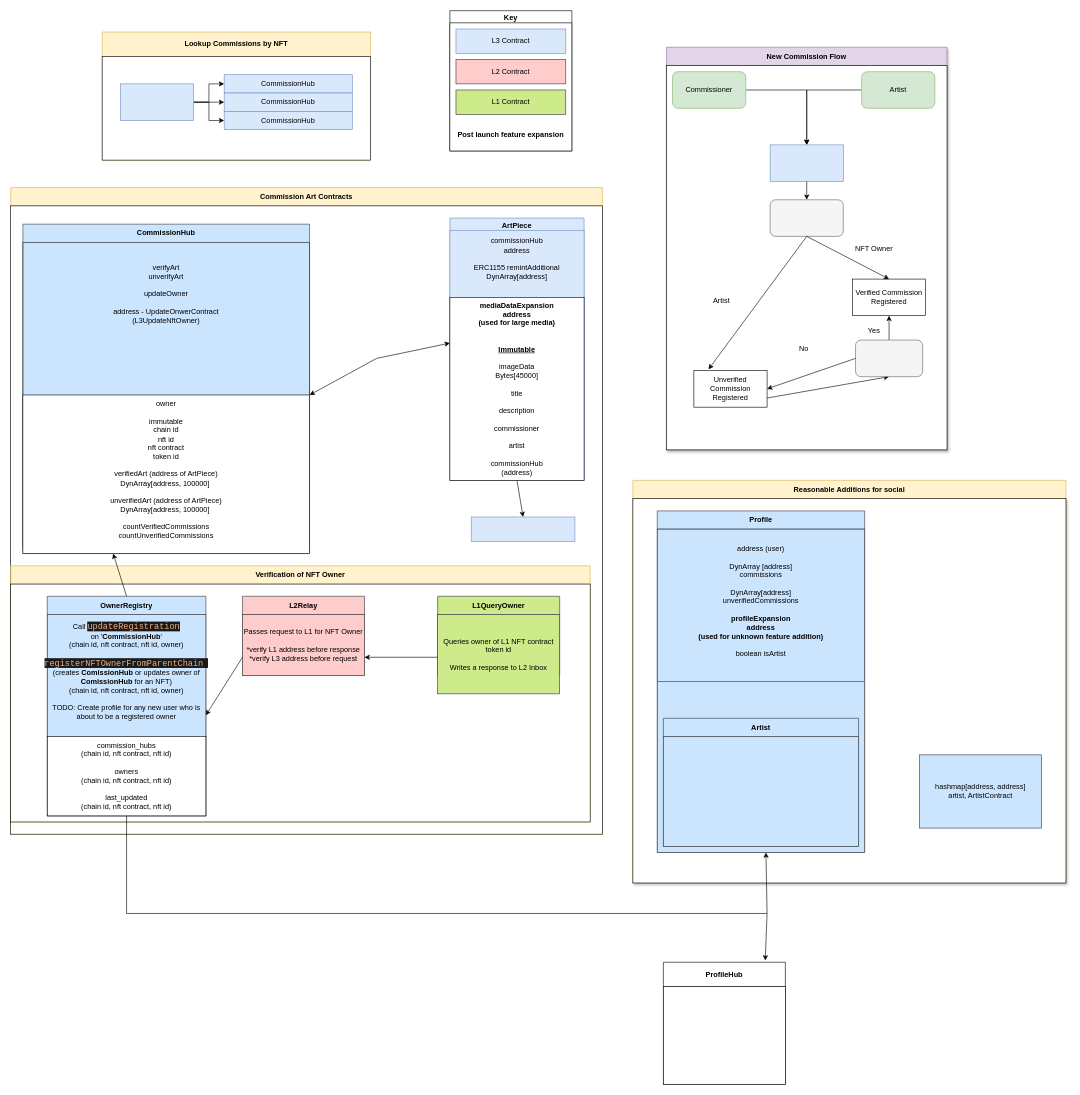
Image size: 1080x1095. Some labels were removed from this diagram. Here are the shapes that lost their labels. From the top down, the centre of each, then its label:
At (x=157, y=101): "OnwerRegistry".
At (x=806, y=162): "Commission Contract New Art Piece".
At (x=806, y=217): "Who added the commissioned piece?".
At (x=889, y=358): "Does OG NFT Owner Validate?".
At (x=523, y=528): "Verified ERC1155 Mint Additional".
At (x=761, y=791): "DynArray [address] commission DynArray [address] additionalMintERC1155s".
At (x=724, y=1035): "accountToProfile hashmap[address,address]".
